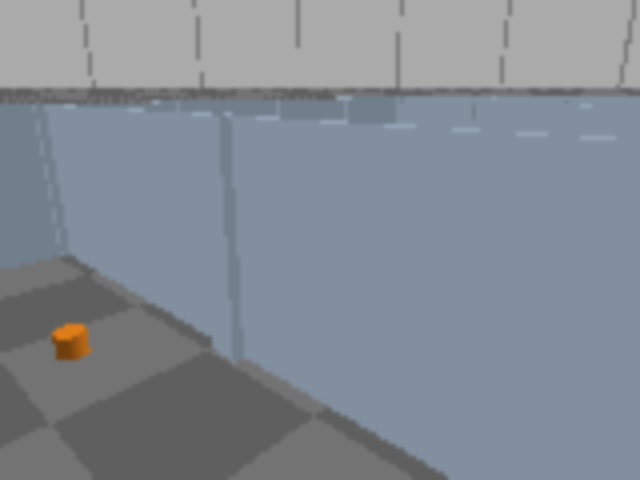puck: (52, 325, 90, 359)
